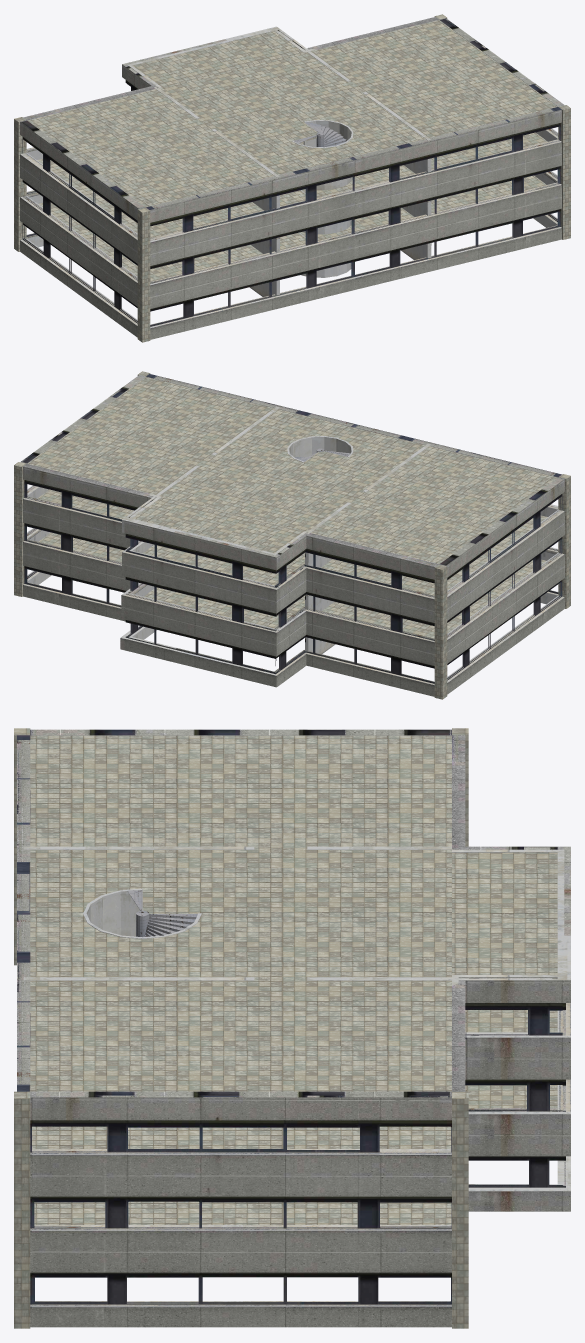
The model's file is BagSS05mid_high.fbx.
3 views of the same model, one above another, from view 1: azimuth 30°, elevation 25°; view 2: azimuth 150°, elevation 25°; view 3: azimuth 270°, elevation 25° (orthographic). The views are drawn at different scales.
Parts seen in each view (by area): view 1: midCeiling700, midMain700, midWalls700, midBeams700, midStairs700; view 2: midCeiling700, midMain700, midWalls700, midBeams700; view 3: midCeiling700, midMain700, midWalls700, midBeams700, midStairs700.
Boxes of the visible parts, x1=… form: midCeiling700: x1=27, y1=20, x2=557, y2=281; midMain700: x1=20, y1=17, x2=564, y2=339; midWalls700: x1=20, y1=19, x2=561, y2=328; midBeams700: x1=14, y1=14, x2=570, y2=342; midStairs700: x1=293, y1=122, x2=346, y2=147; midCeiling700: x1=27, y1=377, x2=557, y2=638; midMain700: x1=20, y1=374, x2=564, y2=696; midWalls700: x1=23, y1=376, x2=564, y2=685; midBeams700: x1=14, y1=371, x2=570, y2=699; midCeiling700: x1=30, y1=735, x2=557, y2=1224; midMain700: x1=17, y1=729, x2=570, y2=1327; midWalls700: x1=23, y1=735, x2=570, y2=1306; midBeams700: x1=14, y1=728, x2=468, y2=1328; midStairs700: x1=127, y1=890, x2=197, y2=937.
Size of the model in its own units: 42.55 by 12.33 by 27.05.
